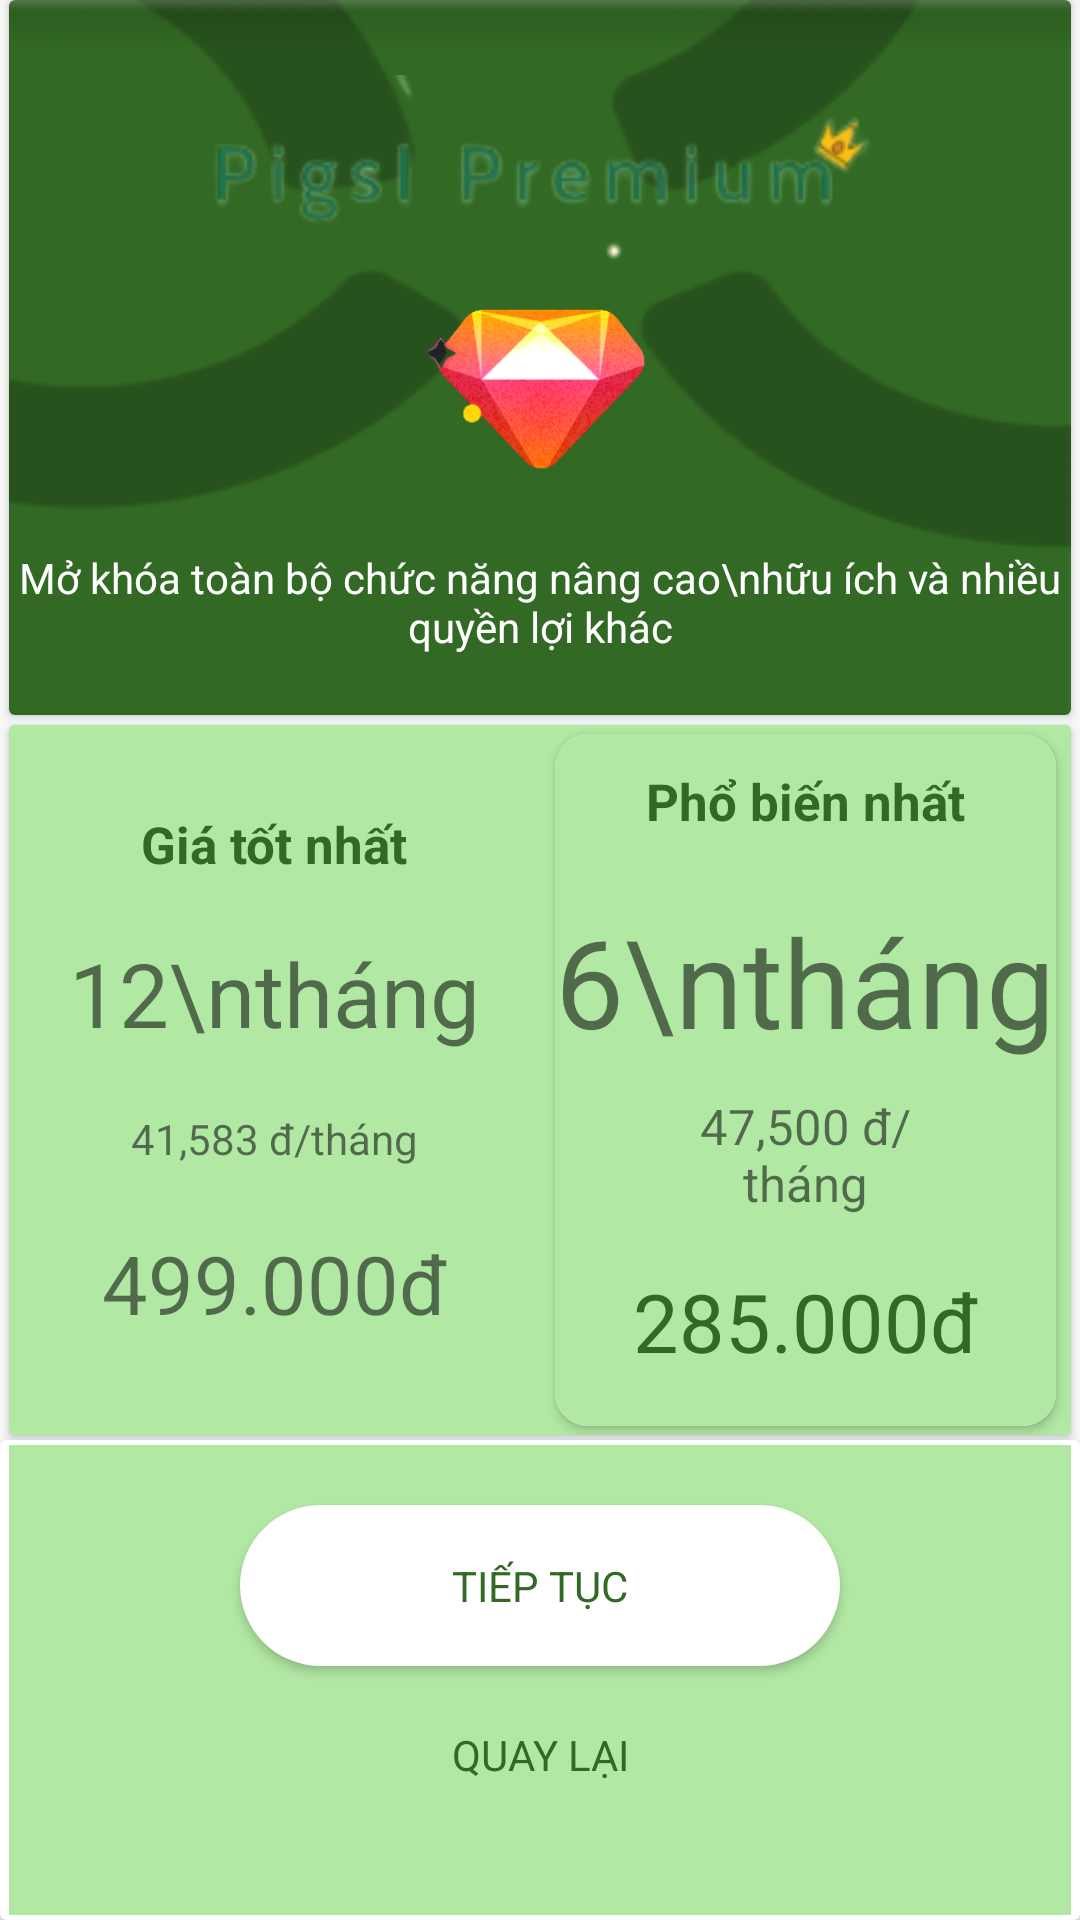

Icons on this 1080px×1920px Android screen, each with the point to tap as point (x, y):
diamond: point (535, 389)
